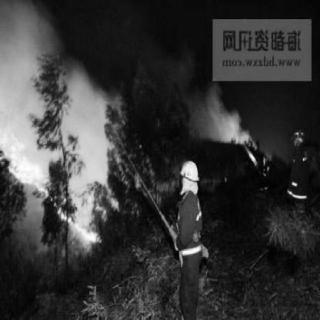Fire: (5, 124, 59, 196)
other: (180, 150, 204, 184)
